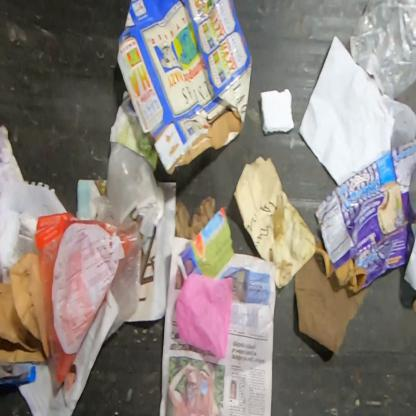cardboard: (116, 0, 254, 177), (313, 137, 415, 296), (34, 211, 82, 247)
rigid_plastic: (106, 141, 165, 226)
soft_plastic: (13, 193, 143, 391), (348, 0, 415, 102)
